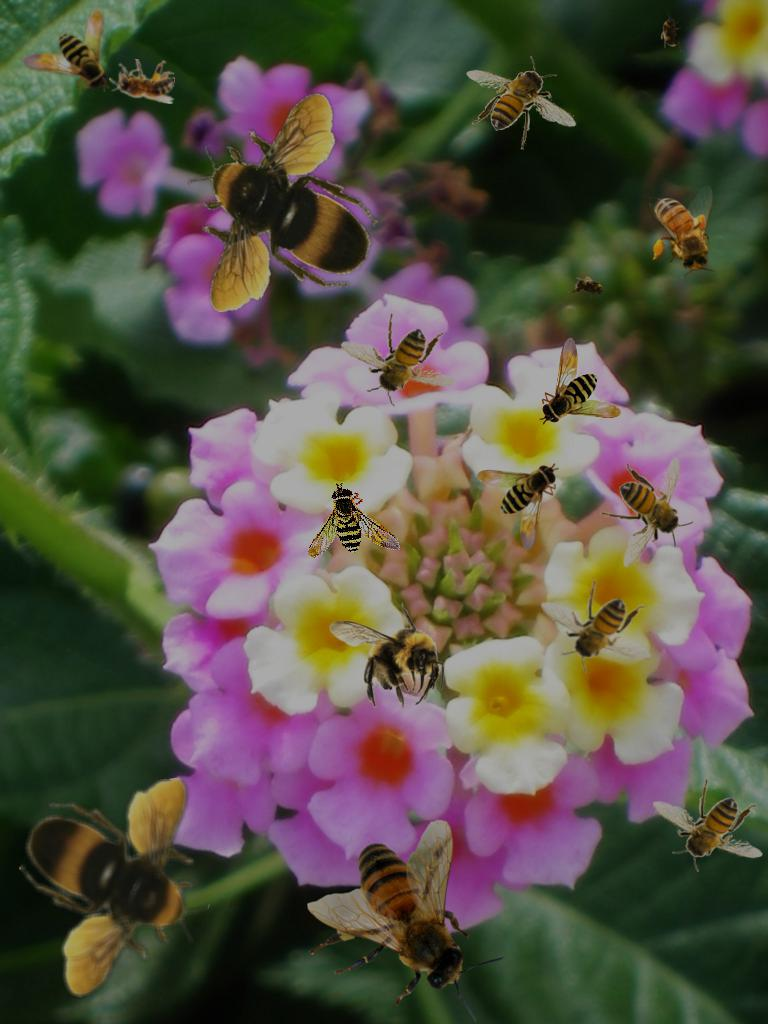Bee: (19, 778, 210, 998), (187, 92, 378, 312), (307, 819, 506, 1023), (298, 479, 416, 593), (336, 305, 459, 413), (329, 602, 444, 709), (540, 579, 651, 673), (466, 56, 577, 150), (652, 778, 763, 872), (600, 457, 694, 568), (539, 337, 621, 425), (22, 10, 110, 92), (477, 463, 559, 551), (649, 185, 717, 278), (109, 59, 175, 104), (567, 271, 613, 305), (660, 12, 682, 52)
